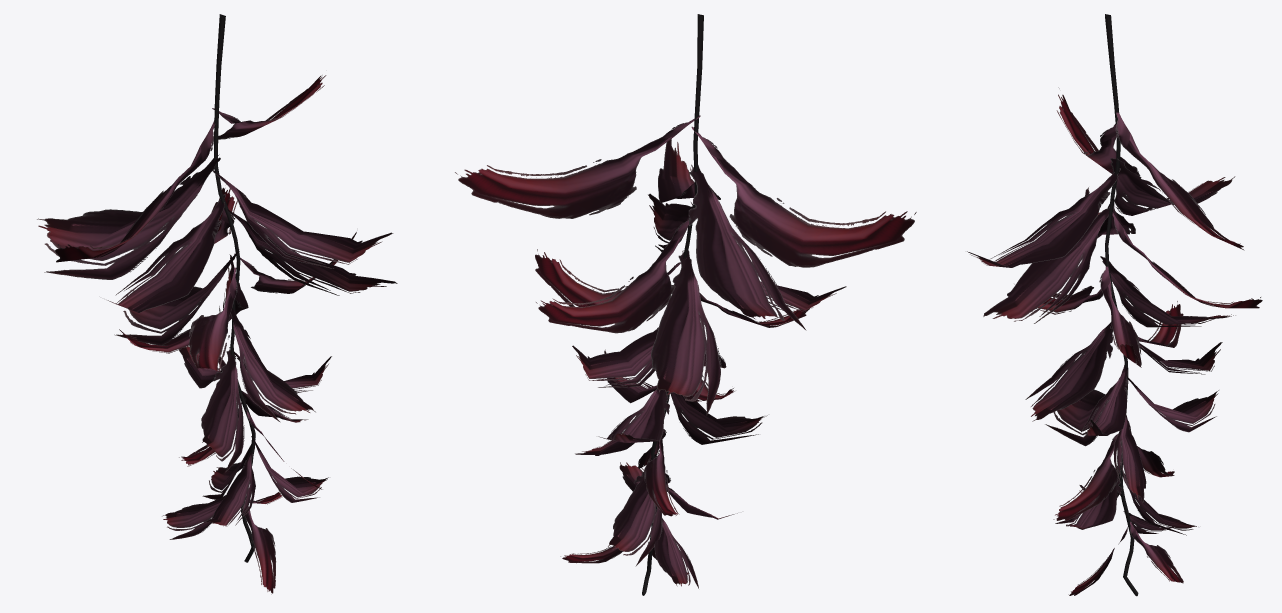
The model's file is BIO_VEG_Tree_01B.fbx.
3 views of the same model, side by side, from view 1: azimuth 30°, elevation 25°; view 2: azimuth 150°, elevation 25°; view 3: azimuth 270°, elevation 25° (orthographic). The views are drawn at different scales.
Parts seen in each view (by area): view 1: BIO_VEG_Tree_01B; view 2: BIO_VEG_Tree_01B; view 3: BIO_VEG_Tree_01B.
Part boxes in pixels (x1,y1,x2,y2): BIO_VEG_Tree_01B: [37, 14, 397, 594]; BIO_VEG_Tree_01B: [455, 14, 916, 595]; BIO_VEG_Tree_01B: [967, 14, 1262, 596].
Size of the model in its own units: 64.54 by 93.96 by 46.91.
